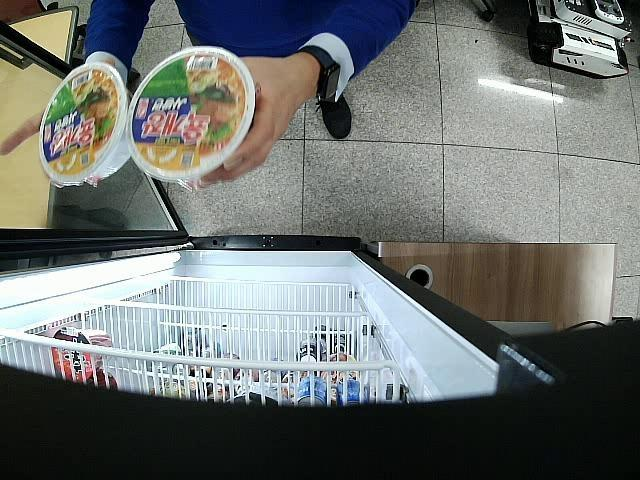09_yukGaeJang: (128, 46, 256, 182), (38, 63, 129, 185)
